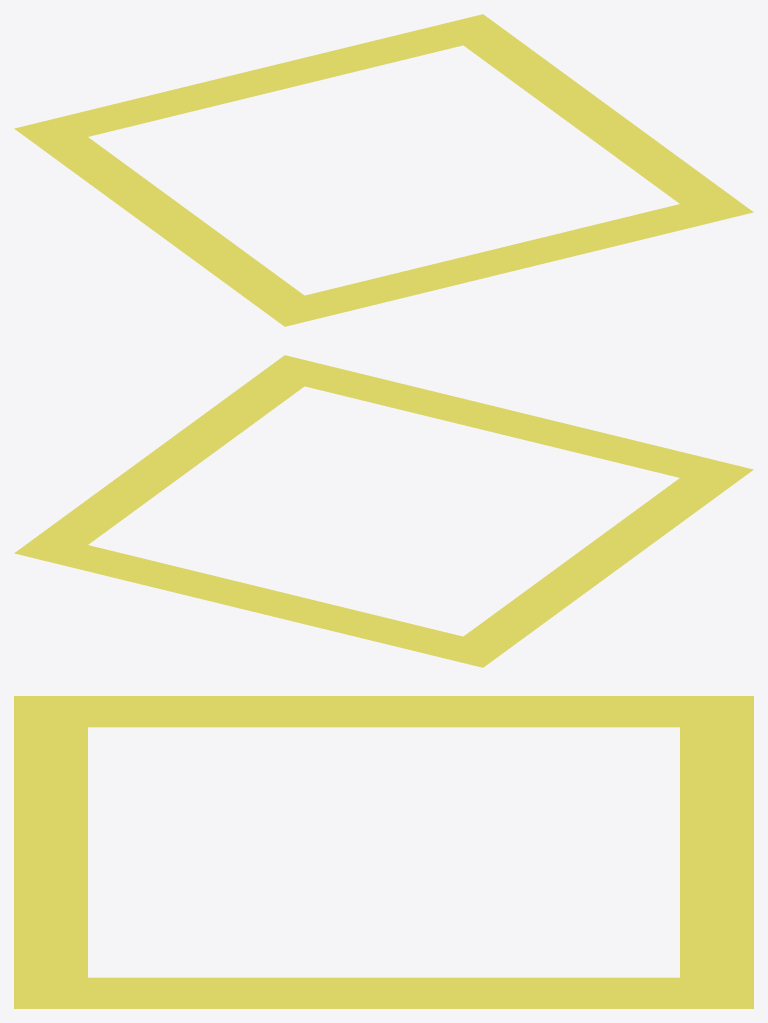
File: Button_YellowBox.glb
3 renders of one model, top to bottom at view 1: azimuth 30°, elevation 25°; view 2: azimuth 150°, elevation 25°; view 3: azimuth 270°, elevation 25°, orthographic. The views are drawn at different scales.
Visible parts, largest first — view 1: indicator-special-cross.004; view 2: indicator-special-cross.004; view 3: indicator-special-cross.004.
Part boxes in pixels (<box>): indicator-special-cross.004: <box>14,14,753,326</box>; indicator-special-cross.004: <box>14,355,753,667</box>; indicator-special-cross.004: <box>14,696,753,1008</box>.
Bounding box in the file's own units: 1 × 0 × 1.
